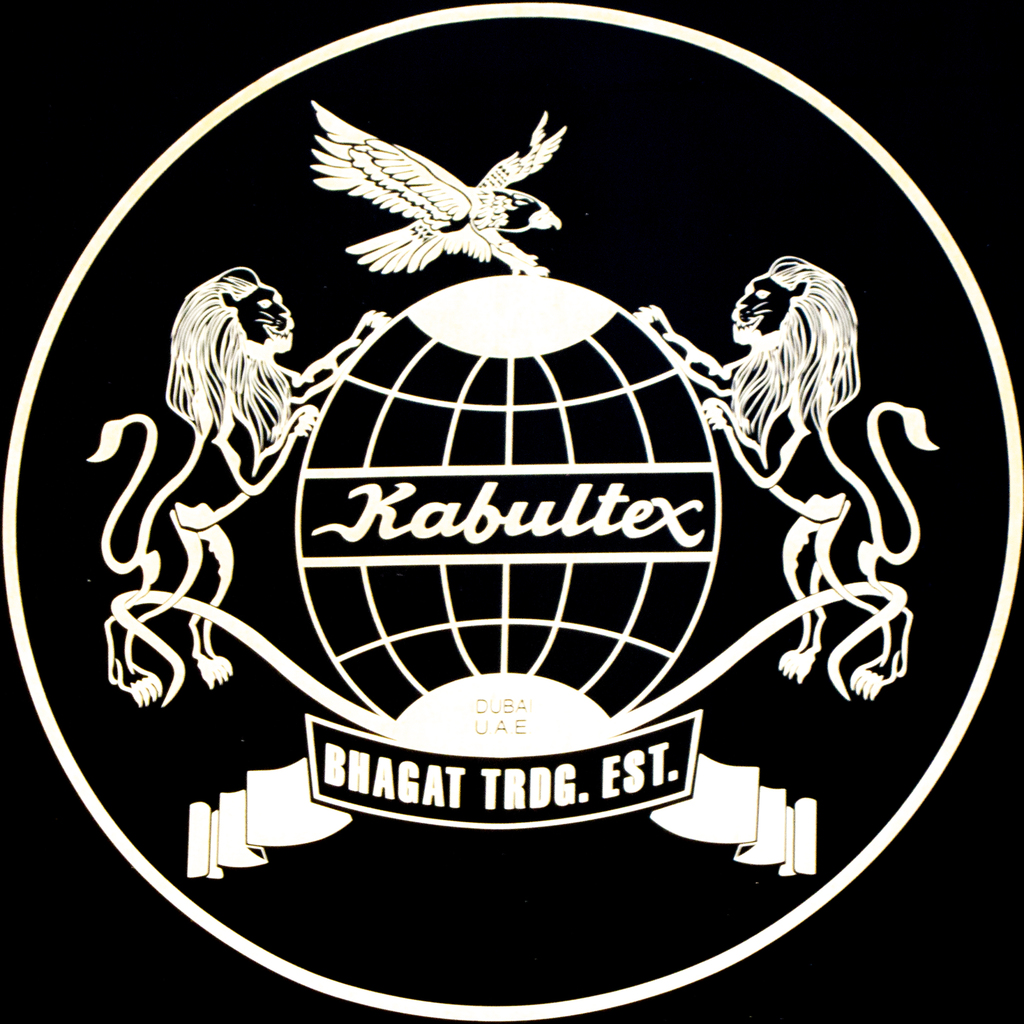Animal: (628, 245, 937, 699), (79, 264, 389, 712), (304, 93, 568, 280)
